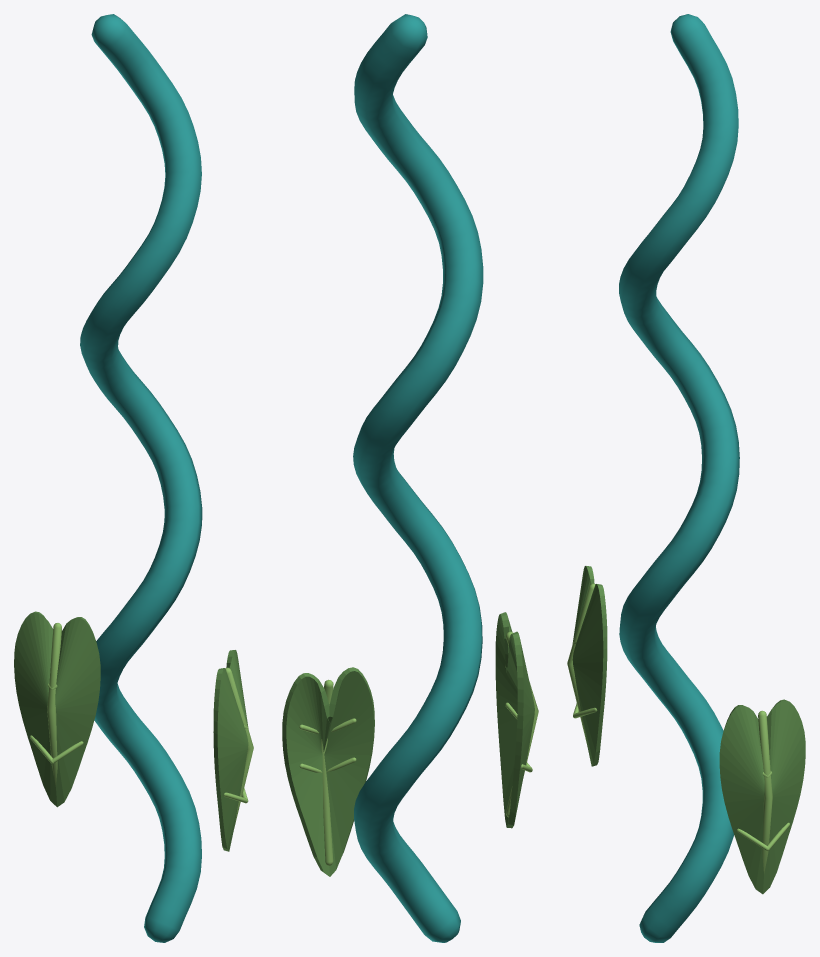
File: star_vine_seedling.glb
The picture shows the model from 3 angles, left to right: view 1: azimuth 30°, elevation 25°; view 2: azimuth 150°, elevation 25°; view 3: azimuth 330°, elevation 25°; orthographic projection. The views are drawn at different scales.
Visible parts, largest first — view 1: Twining_stem, Broad_shaped_leaf.001, Broad_shaped_leaf, Leaf_midvein.001, Leaf_midvein; view 2: Twining_stem, Broad_shaped_leaf, Broad_shaped_leaf.001, Leaf_midvein; view 3: Twining_stem, Broad_shaped_leaf, Broad_shaped_leaf.001, Leaf_midvein, Leaf_midvein.001.
Part boxes in pixels (x1,y1,x2,y2): Twining_stem: [80, 14, 202, 942]; Broad_shaped_leaf.001: [14, 611, 100, 807]; Broad_shaped_leaf: [213, 650, 248, 851]; Leaf_midvein.001: [47, 623, 61, 786]; Leaf_midvein: [225, 667, 253, 828]; Twining_stem: [353, 14, 483, 942]; Broad_shaped_leaf: [282, 667, 374, 876]; Broad_shaped_leaf.001: [495, 612, 534, 828]; Leaf_midvein: [321, 679, 333, 865]; Twining_stem: [619, 14, 739, 942]; Broad_shaped_leaf: [719, 699, 805, 894]; Broad_shaped_leaf.001: [572, 566, 607, 766]; Leaf_midvein: [758, 710, 772, 873]; Leaf_midvein.001: [567, 583, 595, 743].
Size of the model in its own units: 0.0689 by 0.2618 by 0.0323.
